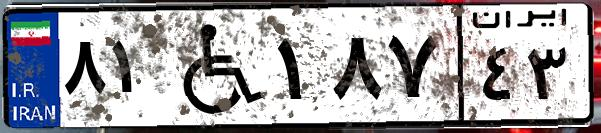1: (270, 28, 330, 110), (110, 28, 158, 98)
3: (525, 38, 570, 115)
4: (475, 38, 525, 113)
7: (385, 28, 445, 110)
8: (330, 28, 385, 110), (57, 26, 110, 100)
ژ (معلولین و جانبازان): (158, 12, 270, 120)
